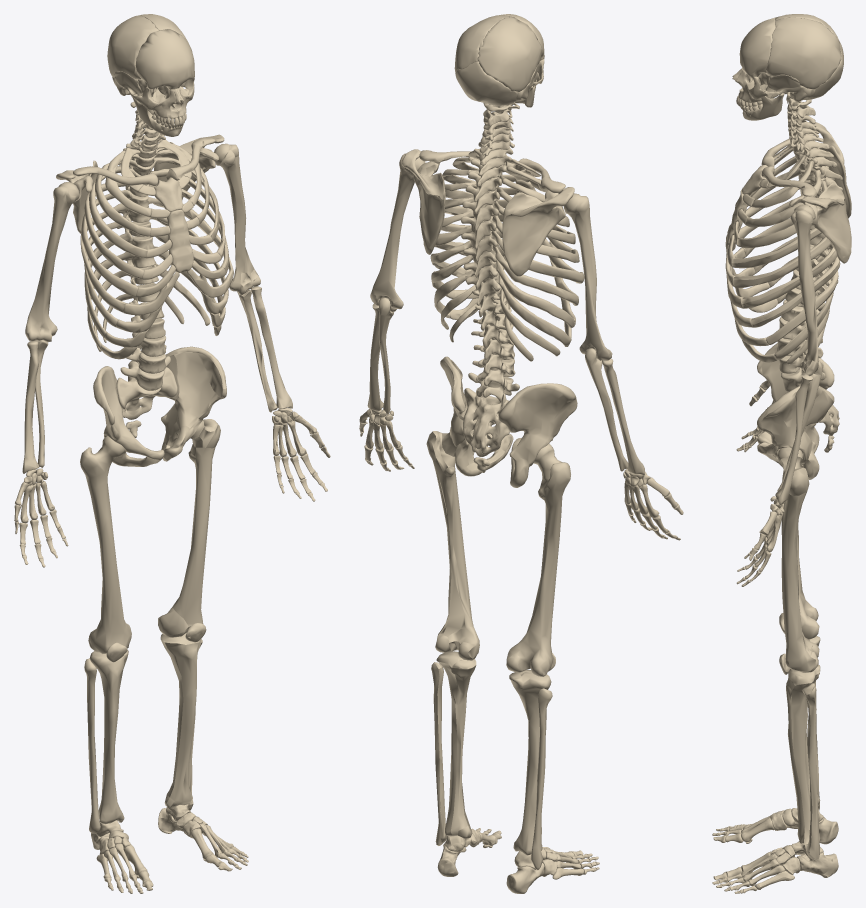
File: skeleton.glb
3 renders of one model, left to right at view 1: azimuth 30°, elevation 25°; view 2: azimuth 150°, elevation 25°; view 3: azimuth 270°, elevation 25°, orthographic. The views are drawn at different scales.
Visible parts, largest first — view 1: Femur.r, Femur.l, Hip bone.l, Tibia.l, Tibia.r, Frontal bone, Humerus.r, Humerus.l, Hip bone.r, Parietal bone right, Sacrum, Fibula.r (+17 smaller); view 2: Femur.r, Femur.l, Hip bone.r, Scapula.r., Parietal bone right, Tibia.l, Tibia.r, Humerus.r, Humerus.l, Scapula.l., Hip bone.l, Sacrum (+15 smaller); view 3: Femur.l, Parietal bone left, Hip bone.l, Tibia.l, Humerus.l, Scapula.l., Fibula.l, Frontal bone, Hip bone.r, Radius.l, Rib (7th).l, Rib (6th).l (+26 smaller).
Part boxes in pixels (x1,y1,x2,y2): Femur.r: [80, 436, 131, 653]; Femur.l: [158, 419, 220, 637]; Hip bone.l: [161, 346, 226, 461]; Tibia.l: [160, 632, 201, 810]; Tibia.r: [89, 649, 128, 824]; Frontal bone: [135, 29, 194, 89]; Humerus.r: [25, 182, 79, 342]; Humerus.l: [214, 143, 260, 295]; Hip bone.r: [93, 366, 164, 466]; Parietal bone right: [107, 15, 158, 79]; Sacrum: [116, 367, 177, 419]; Fibula.r: [84, 658, 100, 833]; Femur.r: [506, 443, 570, 676]; Femur.l: [426, 427, 479, 660]; Hip bone.r: [498, 383, 577, 487]; Scapula.r.: [502, 187, 574, 276]; Parietal bone right: [477, 16, 541, 92]; Tibia.l: [436, 651, 476, 838]; Tibia.r: [509, 670, 551, 855]; Humerus.r: [563, 193, 612, 360]; Humerus.l: [370, 153, 425, 312]; Scapula.l.: [402, 149, 445, 254]; Hip bone.l: [440, 356, 513, 476]; Sacrum: [463, 387, 509, 456]; Femur.l: [777, 447, 819, 672]; Parietal bone left: [766, 17, 841, 89]; Hip bone.l: [757, 385, 834, 479]; Tibia.l: [786, 664, 820, 845]; Humerus.l: [790, 204, 818, 375]; Scapula.l.: [789, 183, 851, 263]; Fibula.l: [802, 683, 819, 860]; Frontal bone: [739, 17, 775, 77]; Hip bone.r: [757, 343, 834, 453]; Radius.l: [775, 374, 813, 504]; Rib (7th).l: [741, 247, 837, 308]; Rib (6th).l: [733, 236, 831, 288].
Size of the model in its own units: 1.31 by 3.3 by 0.4945.
